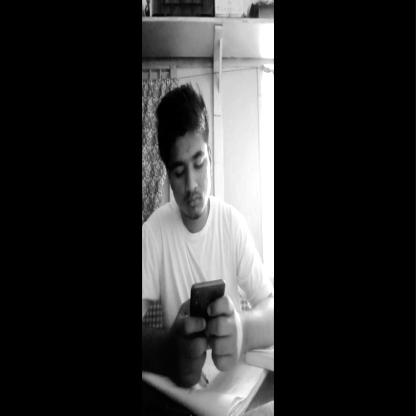Normal: (153, 79, 216, 229)
